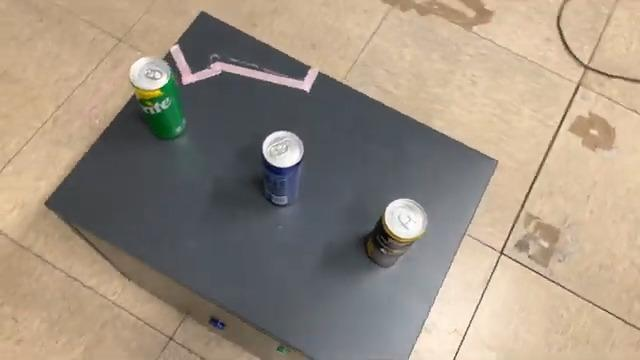OranSoda: (360, 194, 430, 270)
Pepsi: (260, 126, 306, 210)
Sprite: (126, 52, 192, 144)
